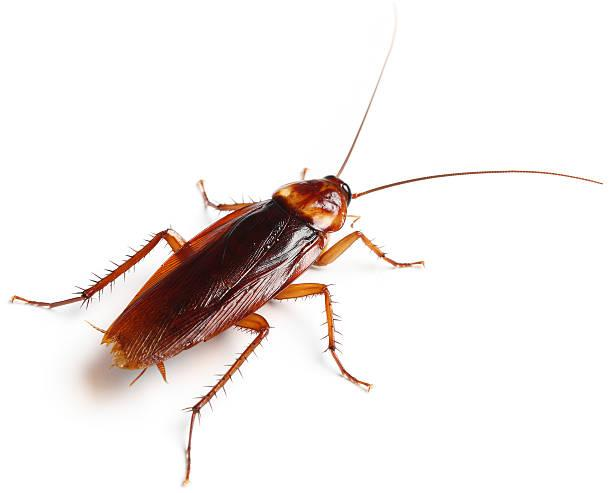cockroach: (99, 170, 368, 384)
